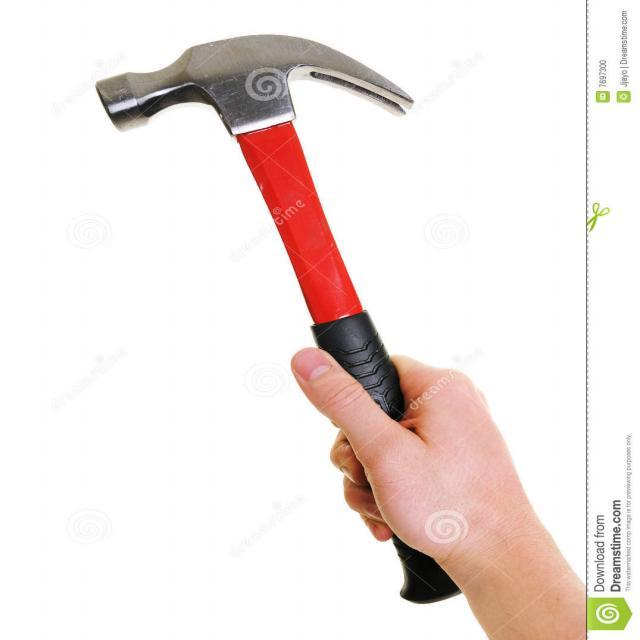hammer: (84, 29, 477, 606)
